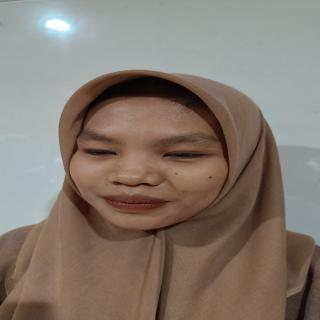Senang: (60, 81, 246, 240)
